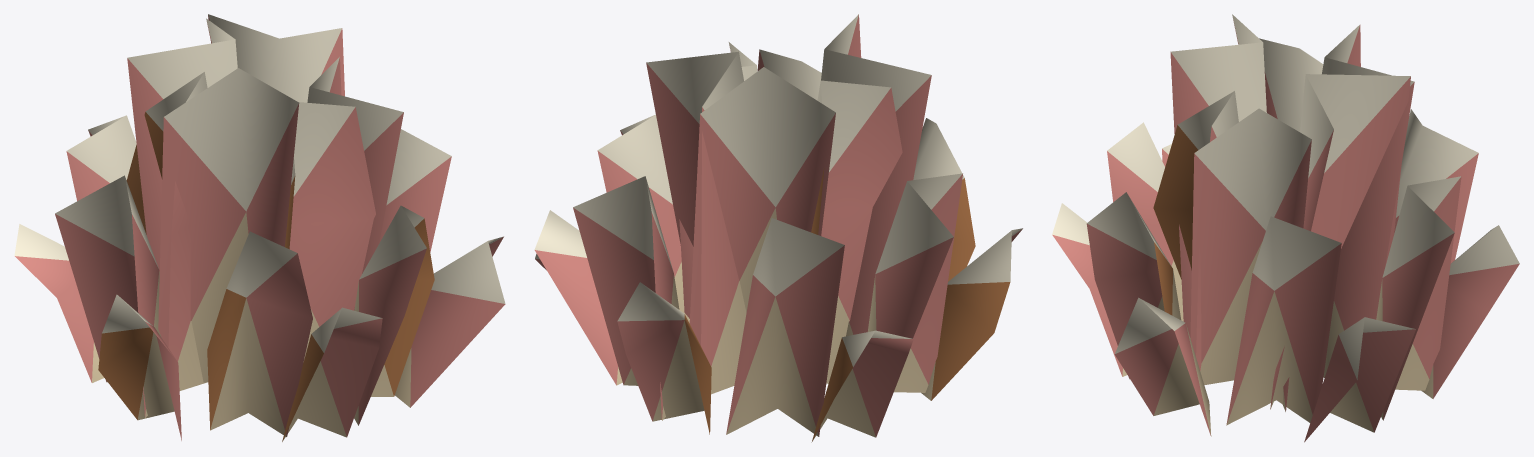
Rendered from itch_assetquest_pond_long_grass_patch_2.glb.
The picture shows the model from 3 angles, left to right: view 1: azimuth 30°, elevation 25°; view 2: azimuth 150°, elevation 25°; view 3: azimuth 270°, elevation 25°; orthographic projection. The views are drawn at different scales.
Parts seen in each view (by area): view 1: Long_Grass_Patch_2; view 2: Long_Grass_Patch_2; view 3: Long_Grass_Patch_2.
Boxes of the visible parts, left/top/right/bottom form: Long_Grass_Patch_2: left=14, top=14, right=505, bottom=441; Long_Grass_Patch_2: left=534, top=14, right=1022, bottom=442; Long_Grass_Patch_2: left=1052, top=14, right=1519, bottom=442.
Bounding box in the file's own units: 0.922 × 0.7241 × 0.96.
